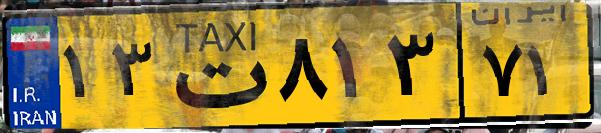1: (330, 28, 385, 110), (57, 26, 110, 100), (525, 38, 570, 115)
3: (385, 28, 445, 110), (110, 28, 158, 98)
7: (475, 38, 525, 113)
8: (270, 28, 330, 110)
ت: (158, 12, 270, 120)
